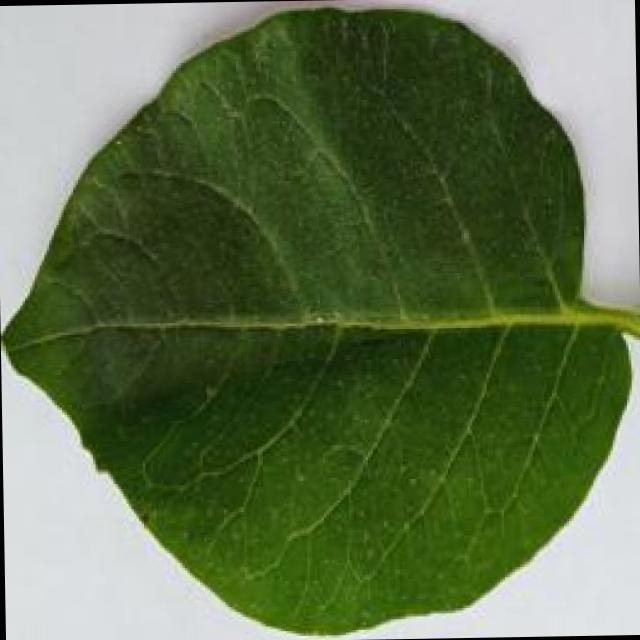Potato_Healthy: (0, 0, 633, 634)
